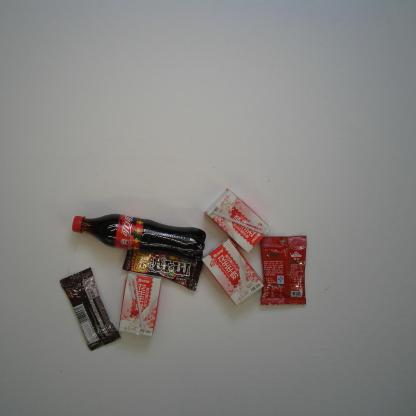Chocolate: (59, 266, 121, 352), (121, 249, 204, 292)
Drink: (70, 213, 206, 262)
Instant Drink: (260, 235, 308, 306)
Milk: (200, 237, 265, 307), (204, 188, 270, 254), (118, 271, 163, 337)
